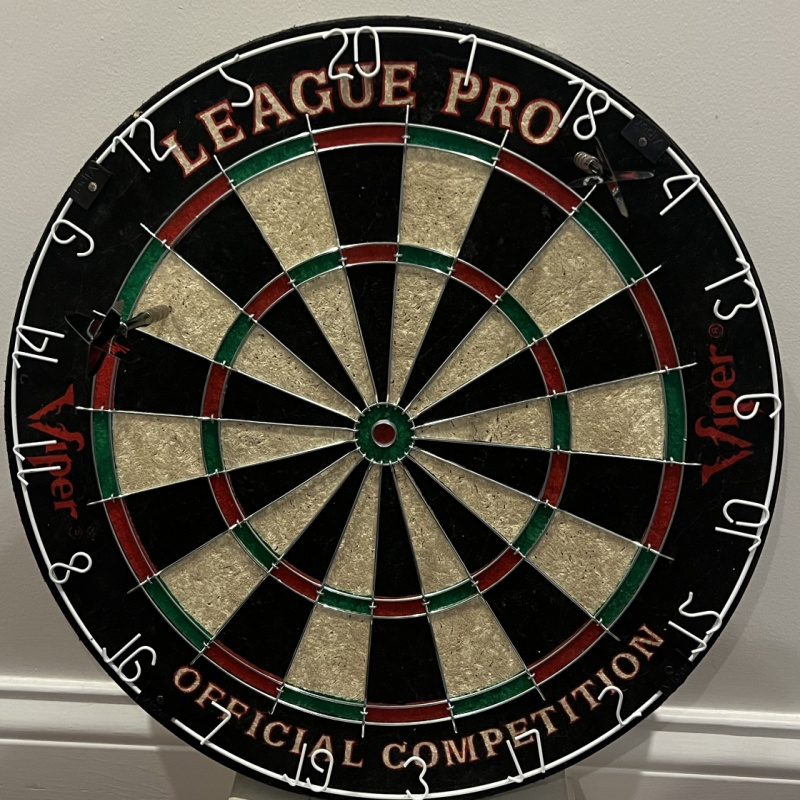dart: (571, 146, 599, 170), (153, 298, 175, 325)
eleven: (14, 436, 63, 487)
six: (736, 392, 783, 419)
three: (405, 758, 433, 798)
twenty: (322, 25, 382, 82)
